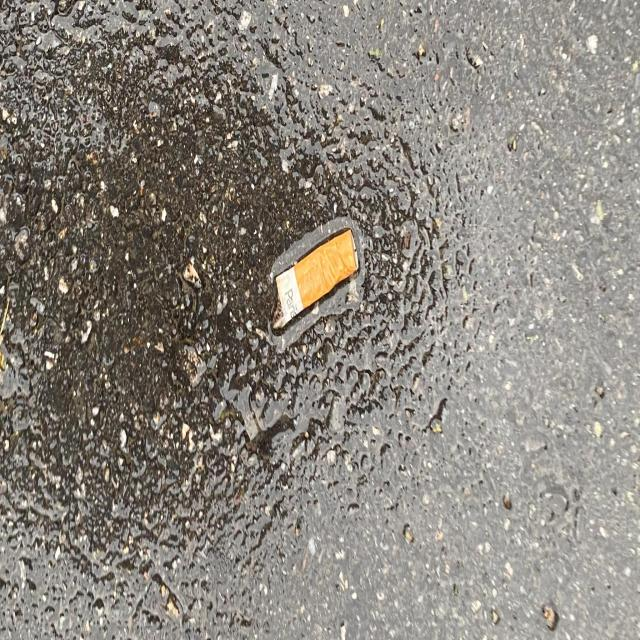other waste: (271, 226, 360, 331)
